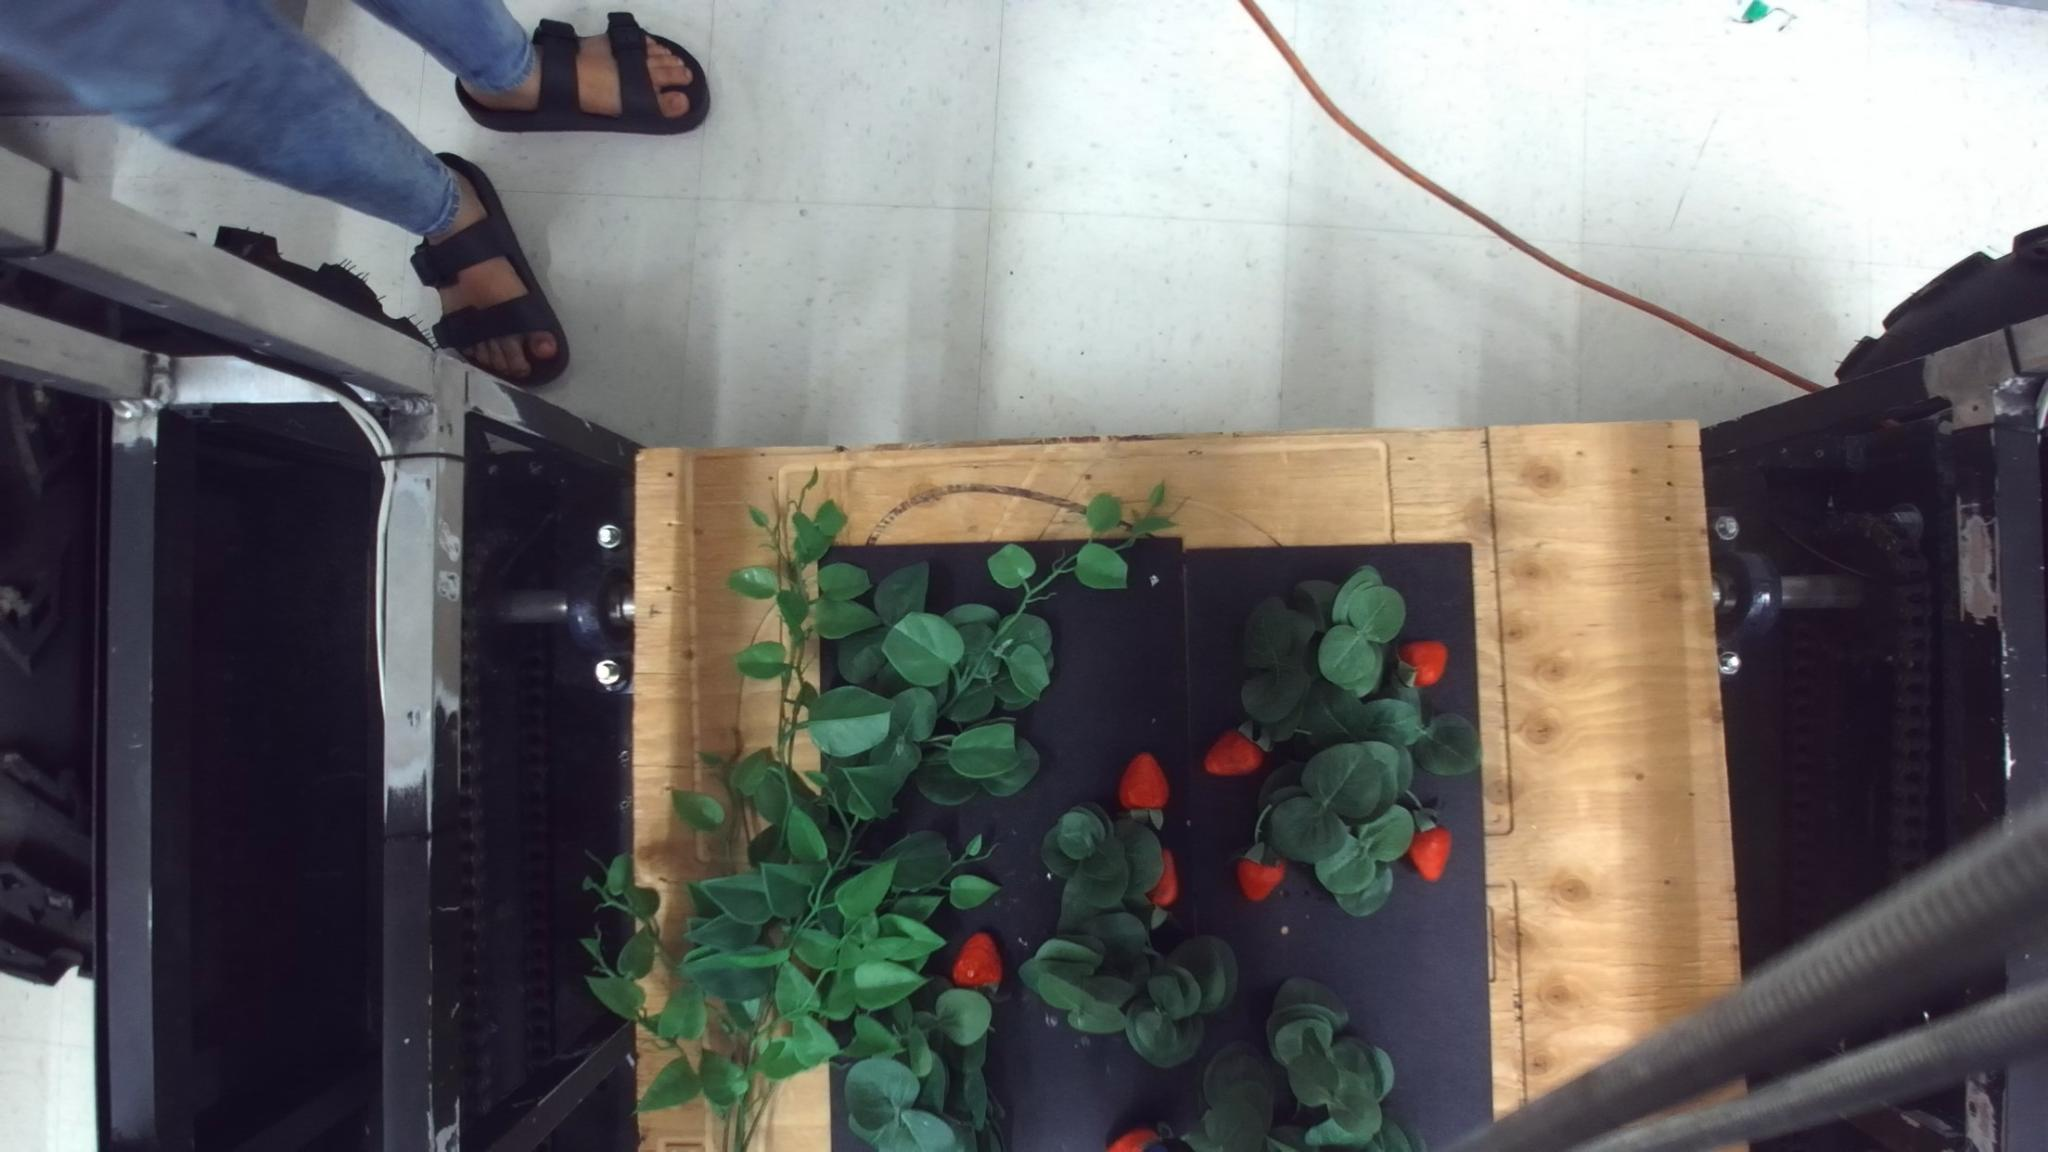mature: (949, 931, 1001, 992), (1117, 751, 1169, 812), (1235, 844, 1287, 903), (1203, 729, 1265, 776), (1397, 639, 1447, 688), (1408, 823, 1450, 881), (1146, 845, 1180, 909), (1106, 1127, 1160, 1152)
